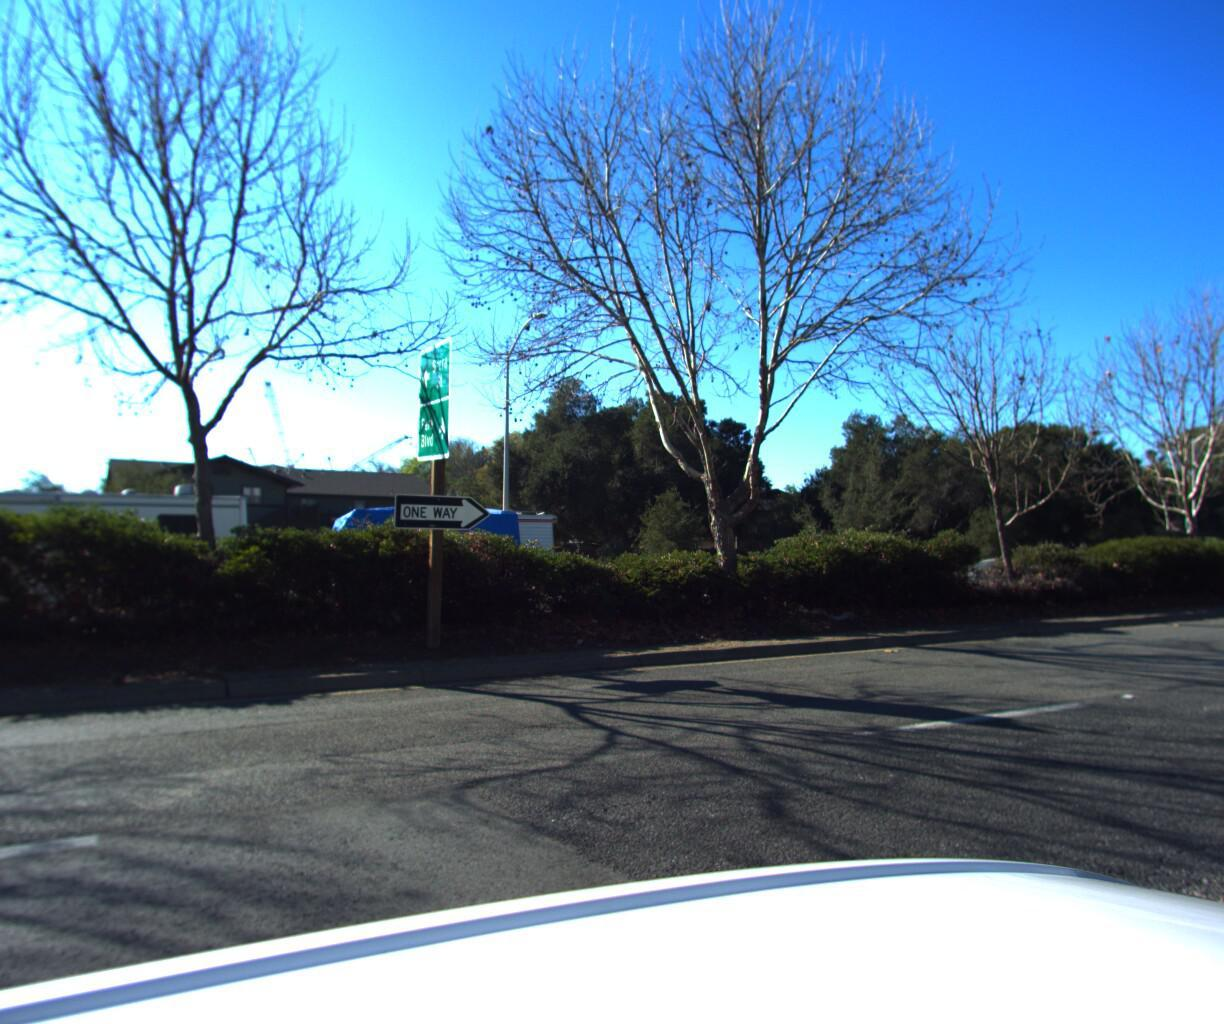other_vehicle: (0, 439, 267, 629), (312, 501, 567, 624)
